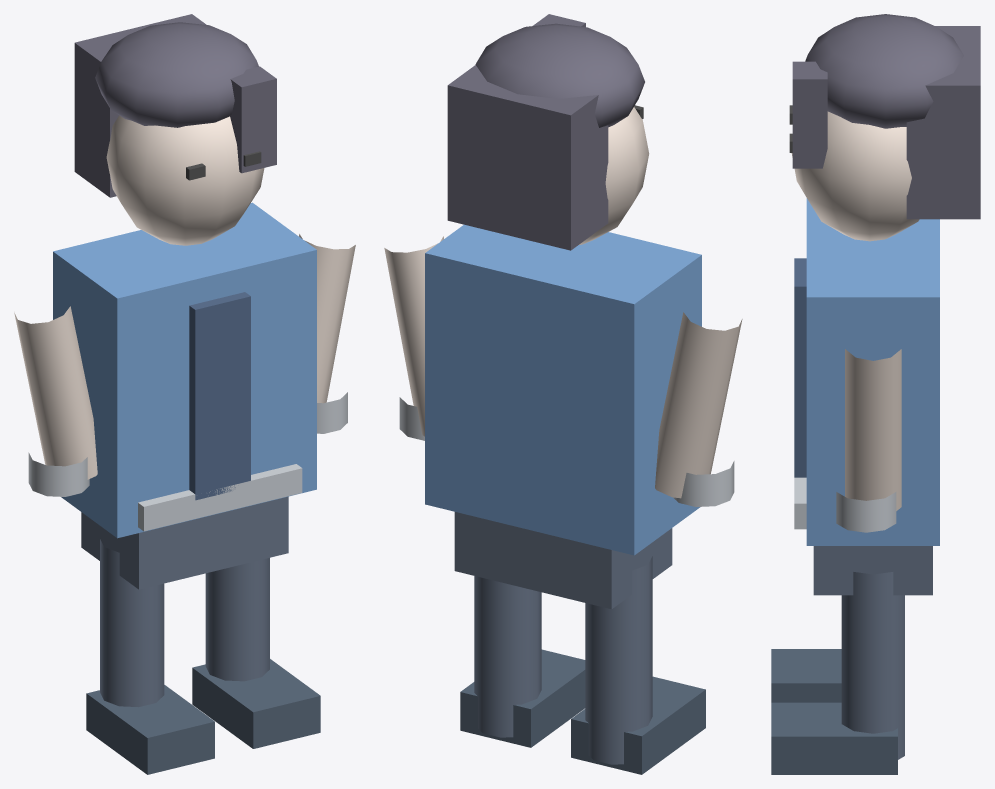
File: caitlyn.glb
The picture shows the model from 3 angles, left to right: view 1: azimuth 30°, elevation 25°; view 2: azimuth 150°, elevation 25°; view 3: azimuth 270°, elevation 25°; orthographic projection. The views are drawn at different scales.
Visible parts, largest first — view 1: Torso, Head, HairCap, Vest, Pelvis, ArmL, LegL, FootL, FootR, LegR, HairBack, Belt (+4 smaller); view 2: Torso, HairBack, Pelvis, HairCap, LegL, ArmL, LegR, FootL, FootR, ArmR, Head, CuffL (+1 smaller); view 3: Torso, HairCap, HairBack, Head, LegR, ArmR, FootR, Pelvis, FootL, HairLock, Vest, CuffR (+1 smaller).
Boxes of the visible parts, bbox=[...] form: Torso: bbox=[53, 202, 316, 538]; Head: bbox=[106, 115, 264, 245]; HairCap: bbox=[95, 22, 258, 127]; Vest: bbox=[189, 292, 250, 500]; Pelvis: bbox=[81, 496, 288, 589]; ArmL: bbox=[14, 306, 97, 479]; LegL: bbox=[100, 539, 164, 707]; FootL: bbox=[86, 685, 214, 774]; FootR: bbox=[192, 659, 320, 748]; LegR: bbox=[205, 558, 269, 681]; HairBack: bbox=[74, 14, 206, 197]; Belt: bbox=[138, 464, 302, 531]; Torso: bbox=[425, 224, 701, 555]; HairBack: bbox=[447, 65, 608, 250]; Pelvis: bbox=[454, 512, 672, 609]; HairCap: bbox=[475, 23, 644, 127]; LegL: bbox=[585, 556, 652, 764]; ArmL: bbox=[655, 312, 742, 498]; LegR: bbox=[474, 576, 541, 737]; FootL: bbox=[571, 676, 705, 774]; FootR: bbox=[460, 649, 585, 747]; ArmR: bbox=[384, 236, 443, 436]; Head: bbox=[579, 107, 649, 244]; CuffL: bbox=[673, 461, 734, 506]; Torso: bbox=[806, 198, 939, 545]; HairCap: bbox=[805, 14, 963, 128]; HairBack: bbox=[906, 26, 980, 219]; Head: bbox=[791, 111, 919, 241]; LegR: bbox=[841, 572, 904, 759]; ArmR: bbox=[845, 349, 901, 510]; FootR: bbox=[771, 702, 897, 774]; Pelvis: bbox=[813, 546, 932, 595]; FootL: bbox=[771, 649, 841, 702]; HairLock: bbox=[792, 61, 827, 168]; Vest: bbox=[794, 258, 806, 477]; CuffR: bbox=[836, 492, 896, 532].
Bounding box in the file's own units: 1.14 × 2.21 × 0.595.
